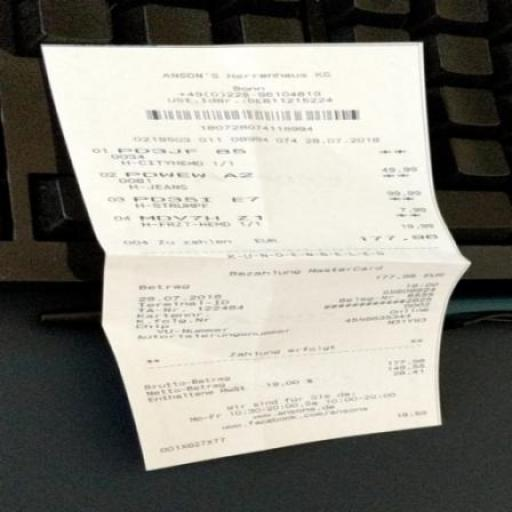paper: (20, 25, 444, 480)
